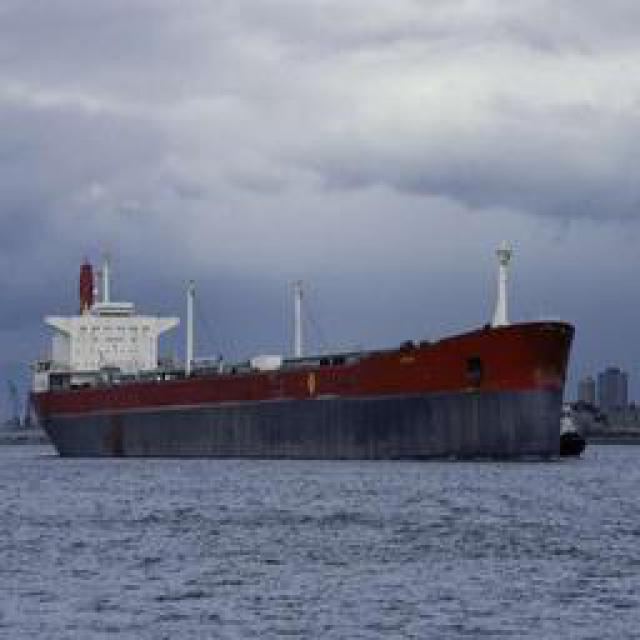Ship: (35, 251, 575, 459)
